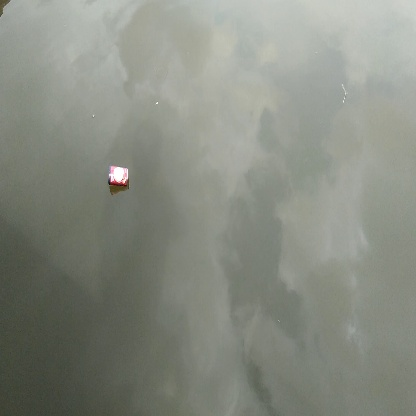bottle: (105, 162, 133, 191)
